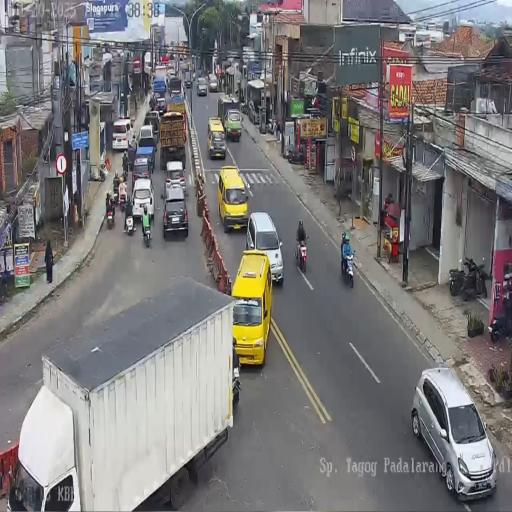3: (21, 282, 237, 508), (154, 64, 168, 87), (144, 51, 152, 76), (179, 56, 187, 72)
car: (412, 364, 495, 495), (230, 250, 272, 362), (218, 164, 249, 231), (162, 186, 188, 238), (206, 116, 226, 158), (136, 124, 157, 163), (164, 160, 187, 194), (131, 155, 153, 190), (168, 97, 186, 139), (112, 118, 133, 153), (224, 108, 242, 142), (246, 99, 257, 124), (154, 95, 167, 116), (196, 77, 208, 96), (169, 89, 183, 103), (208, 74, 218, 92), (184, 70, 193, 89), (167, 66, 178, 81), (196, 69, 202, 79), (192, 70, 196, 82)
truck: (450, 256, 488, 301), (488, 308, 511, 343), (341, 247, 355, 289), (296, 232, 308, 273), (287, 144, 305, 166), (124, 204, 136, 236), (142, 217, 152, 247), (106, 198, 115, 229), (122, 149, 128, 178), (240, 100, 246, 116)
